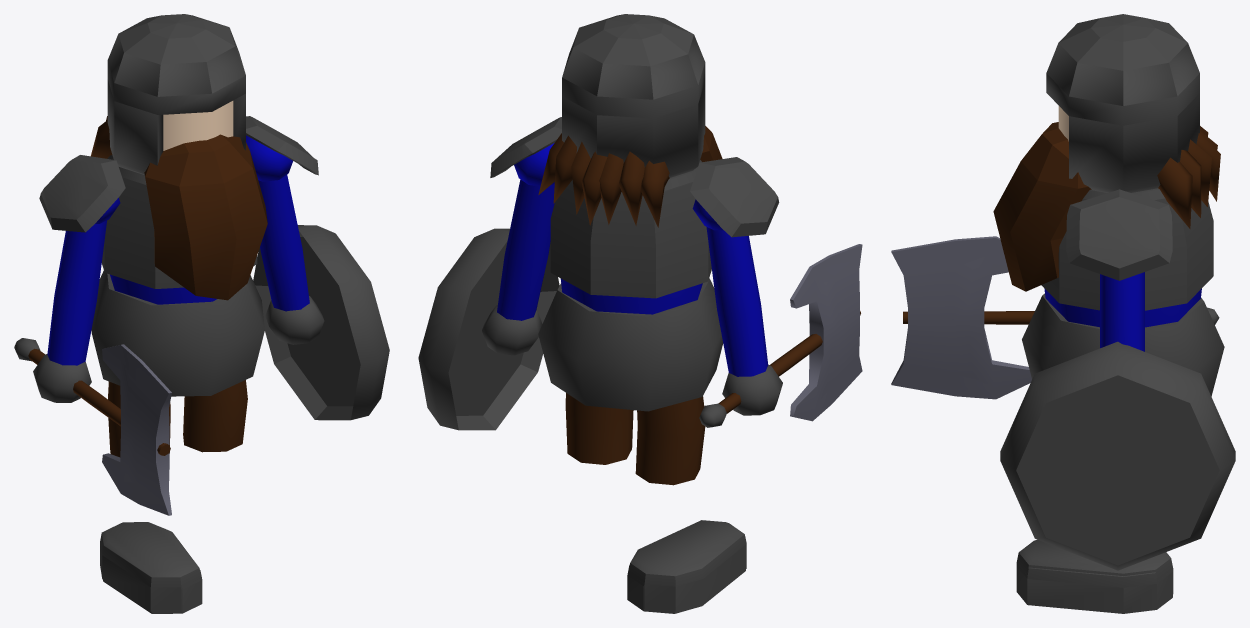
The model's file is Dwarf.obj.
3 renders of one model, left to right at view 1: azimuth 30°, elevation 25°; view 2: azimuth 150°, elevation 25°; view 3: azimuth 270°, elevation 25°, orthographic. The views are drawn at different scales.
Visible parts, largest first — view 1: Beard, Helmet, Shield, Lower_body, Axe, Right_foot, Right_arm, Armor, Left_arm, Right_shoulder_pad, Leg_Leg, Head (+7 smaller); view 2: Helmet, Lower_body, Shield, Armor, Axe, Right_foot, Head, Right_arm, Left_arm, Right_leg, Right_shoulder_pad, Leg_Leg (+6 smaller); view 3: Shield, Helmet, Axe, Beard, Left_shoulder_pad, Lower_body, Armor, Left_foot, Head, Left_arm, Right_foot, Body.
Boxes of the visible parts, box(x1,y1,x2,y2) form: Beard: box(144, 134, 267, 300); Helmet: box(107, 14, 245, 173); Shield: box(253, 225, 389, 420); Lower_body: box(91, 270, 264, 396); Axe: box(14, 338, 171, 515); Right_foot: box(100, 522, 201, 611); Right_arm: box(47, 220, 106, 365); Armor: box(101, 155, 257, 288); Left_arm: box(258, 174, 309, 311); Right_shoulder_pad: box(39, 155, 125, 232); Leg_Leg: box(183, 380, 247, 452); Head: box(91, 101, 233, 158); Helmet: box(562, 14, 705, 177); Lower_body: box(538, 278, 723, 411); Shield: box(418, 228, 559, 430); Armor: box(550, 160, 711, 298); Axe: box(699, 244, 862, 427); Right_foot: box(628, 520, 746, 611); Head: box(538, 133, 669, 227); Right_arm: box(706, 227, 768, 376); Left_arm: box(497, 179, 554, 320); Right_leg: box(635, 396, 705, 485); Right_shoulder_pad: box(690, 157, 779, 237); Leg_Leg: box(565, 393, 633, 464); Shield: box(1000, 341, 1235, 570); Helmet: box(1046, 14, 1199, 192); Axe: box(891, 236, 1219, 399); Beard: box(993, 122, 1091, 291); Left_shoulder_pad: box(1066, 189, 1172, 280); Lower_body: box(1022, 293, 1224, 396); Armor: box(1041, 188, 1213, 310); Left_foot: box(1016, 563, 1172, 613); Head: box(1058, 106, 1220, 228); Left_arm: box(1100, 272, 1144, 351); Right_foot: box(1016, 539, 1173, 593); Body: box(1044, 288, 1201, 327).
Bounding box in the file's own units: 2.63 × 4.4 × 2.33.
